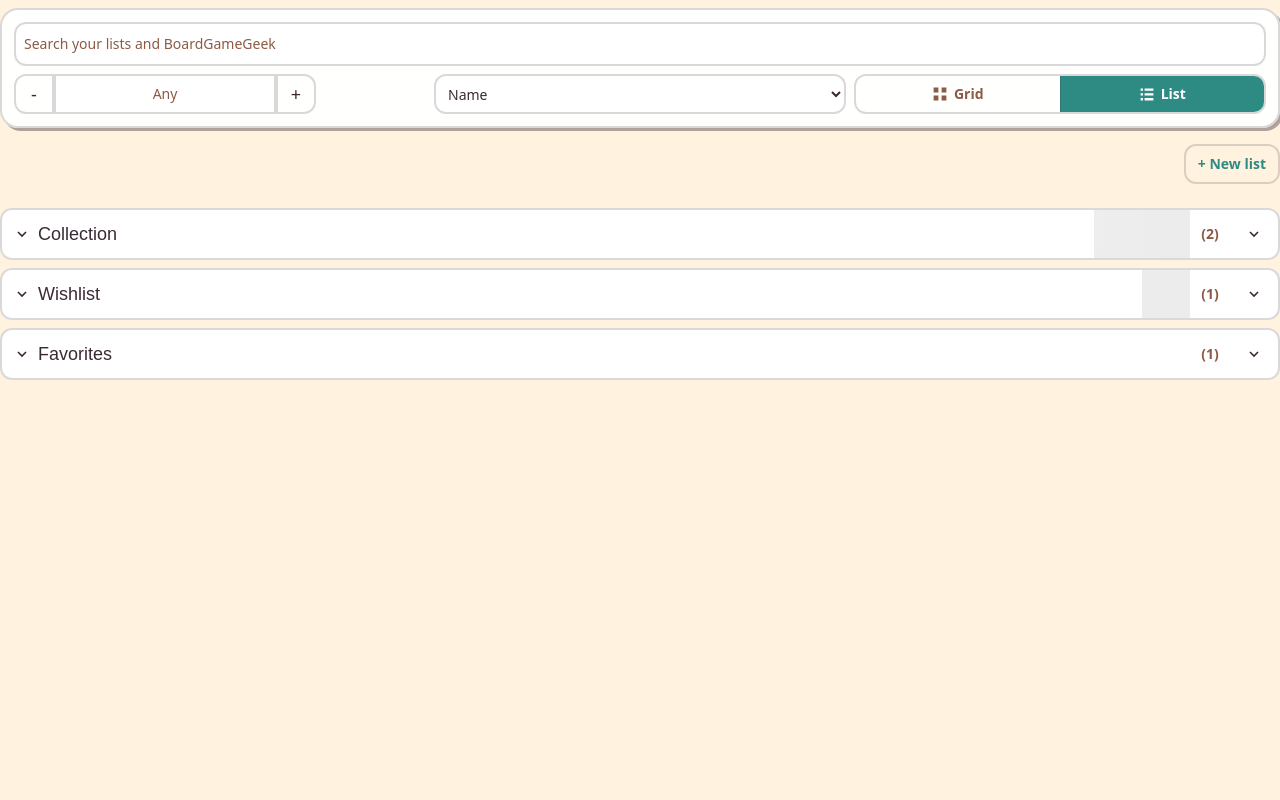
Test case: PersonalCollection lists › uses a prefix match on Enter and respects the player-count filter
The width and height of the screenshot is (1280, 800).
Check: the button with aria-label "Favorites (1)" is shown, box [2,330,1190,378]
Type "azu" into the field labelled "Search your lists and BoardGameGeek" at point(640, 44), box [14,22,1266,66]
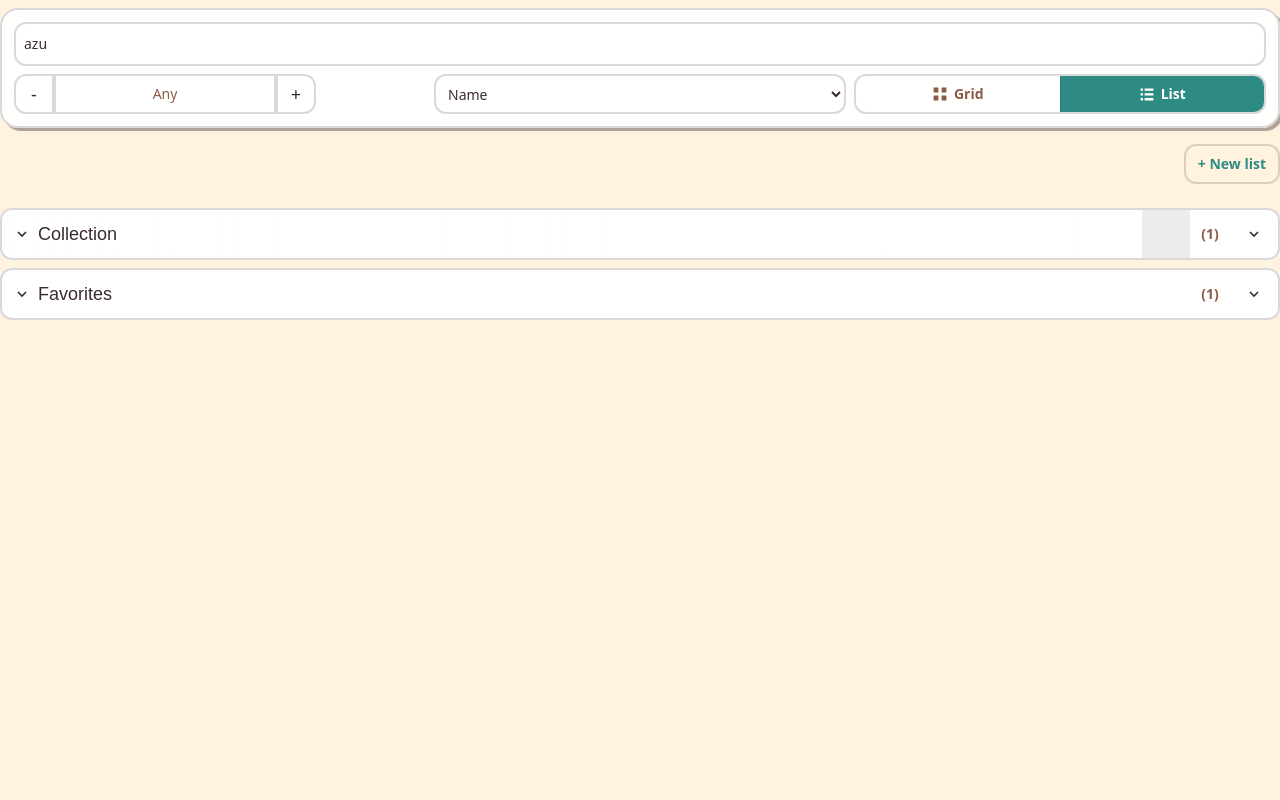
Type "5" into the field named "Player count value" at point(165, 94), box [54,74,276,114]
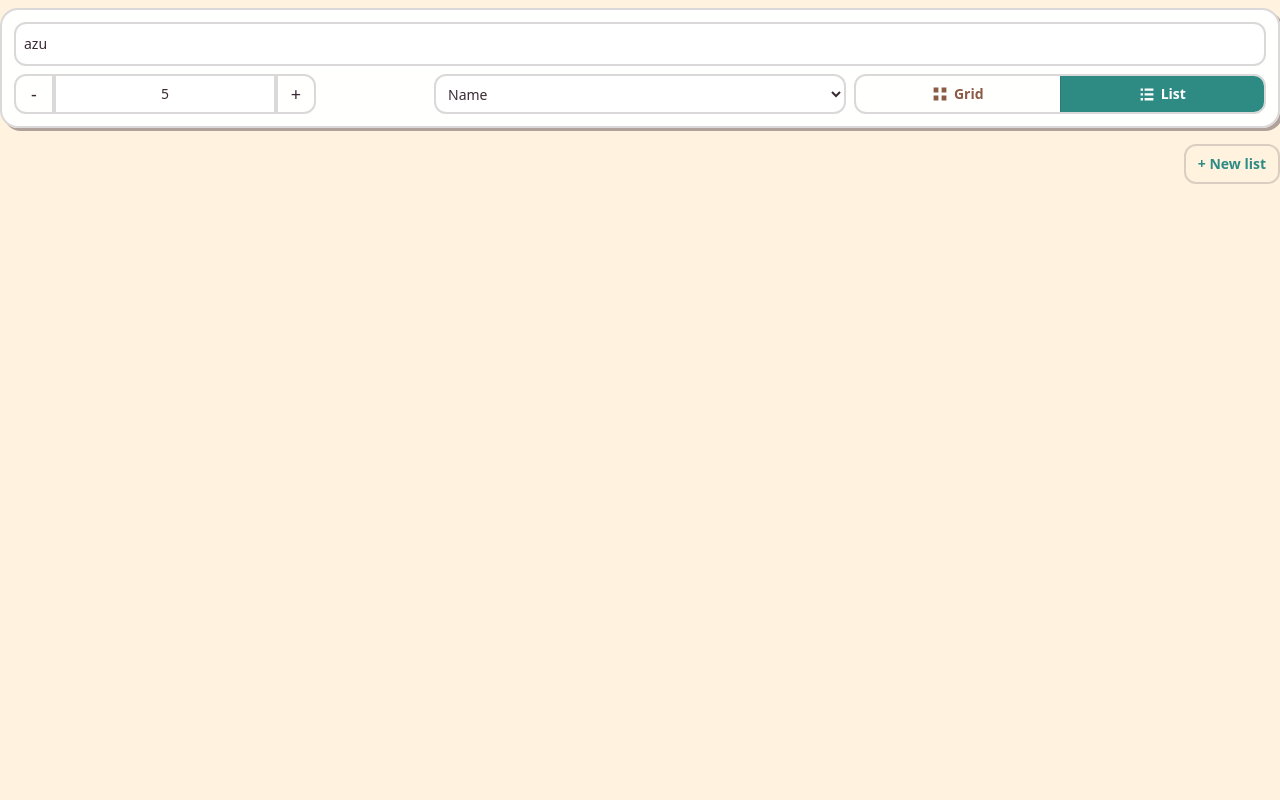
Press Enter in the field named "Search your lists and BoardGameGeek", box [14,22,1266,66]
Replace the text in the field named "Search your lists and BoardGameGeek" with "missing title" at point(640, 44), box [14,22,1266,66]
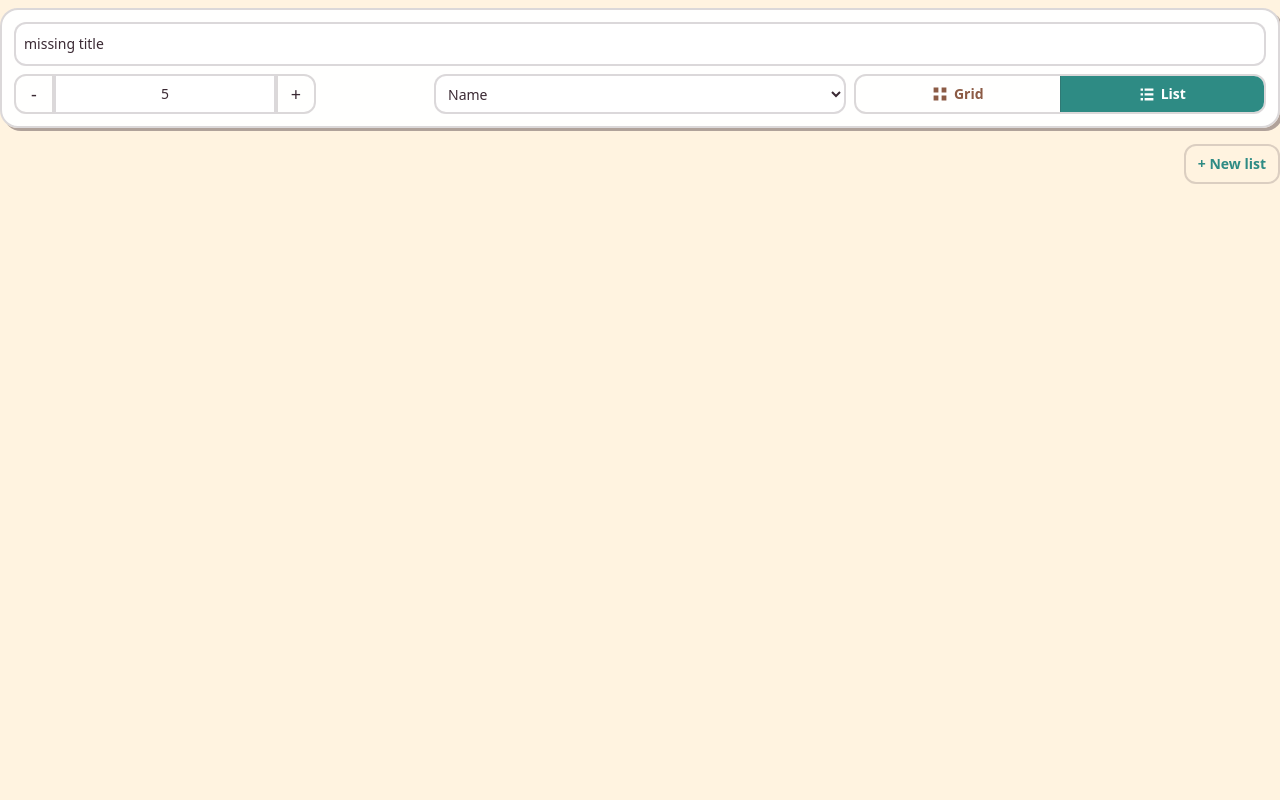
Clear the field named "Player count value" at point(165, 94), box [54,74,276,114]
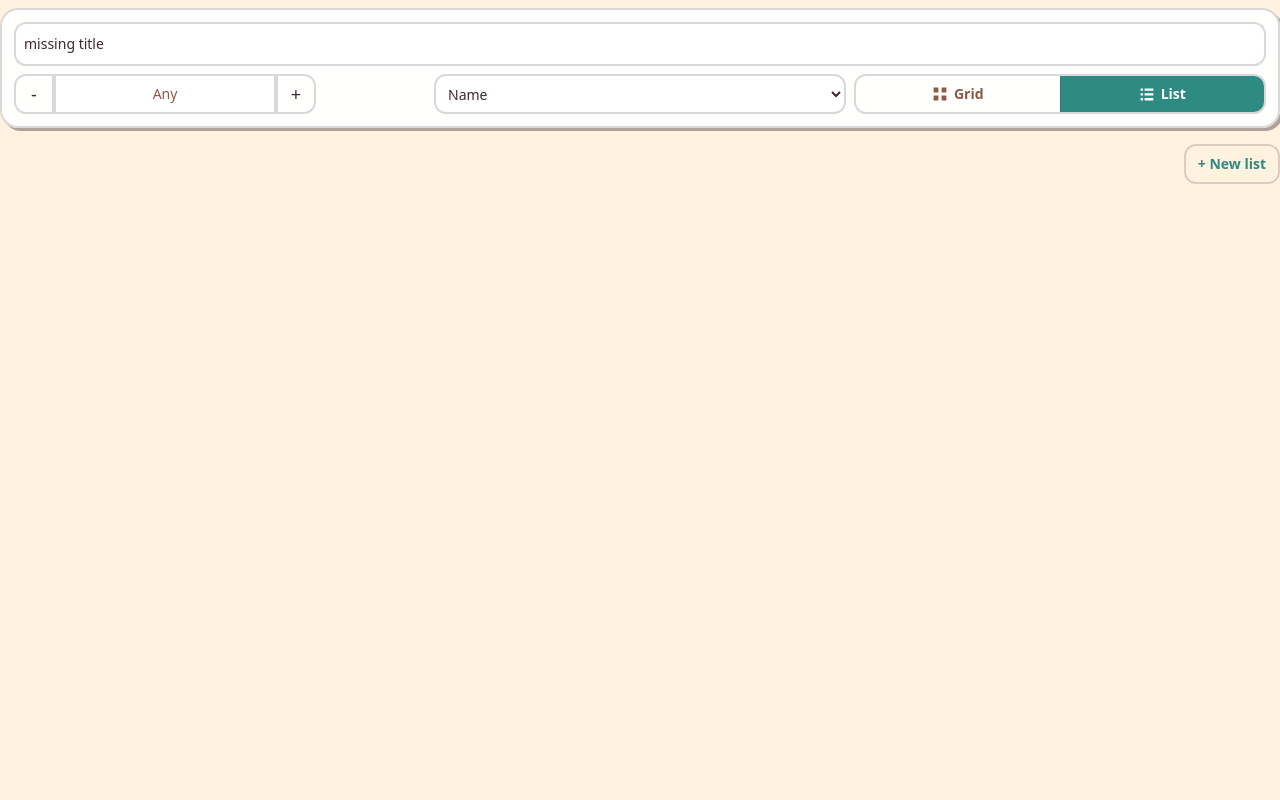
Press Enter in the field named "Search your lists and BoardGameGeek", box [14,22,1266,66]
Replace the text in the field named "Search your lists and BoardGameGeek" with "azu" at point(640, 44), box [14,22,1266,66]
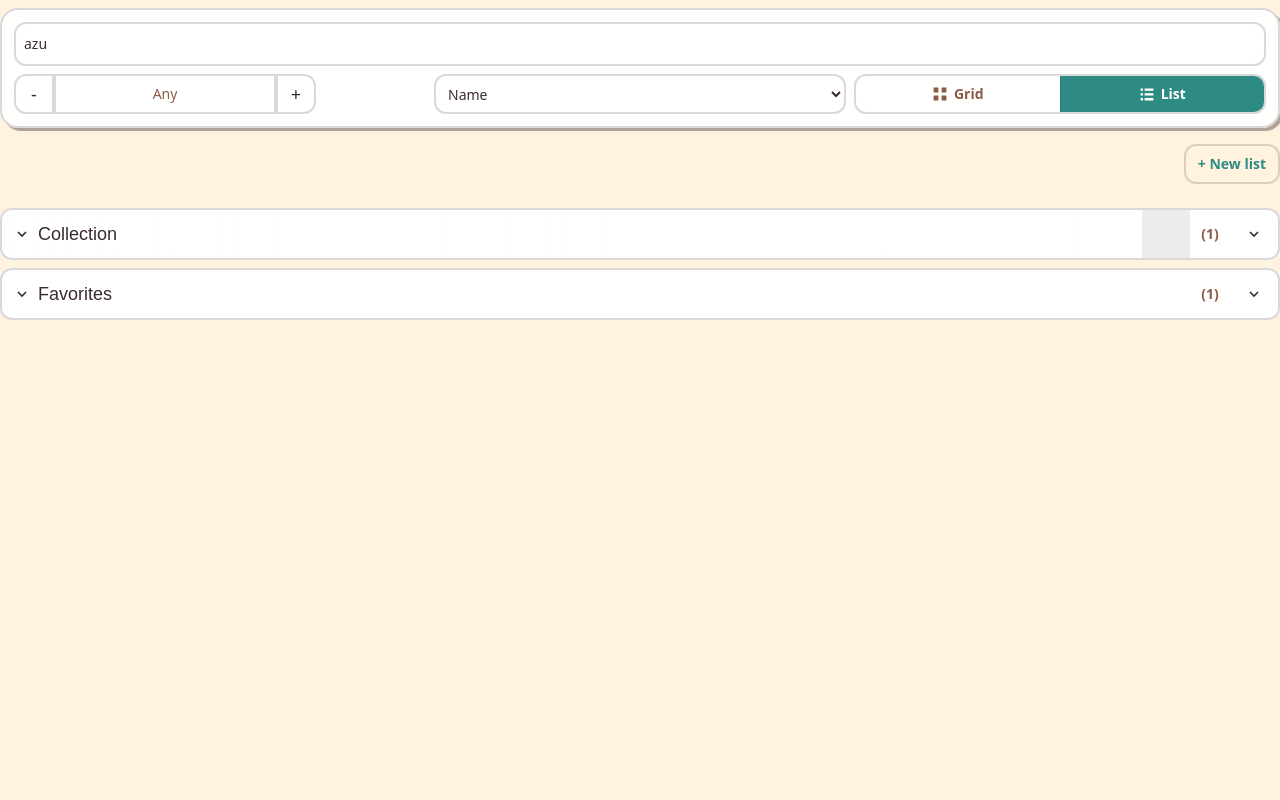
Press Enter in the field named "Search your lists and BoardGameGeek", box [14,22,1266,66]
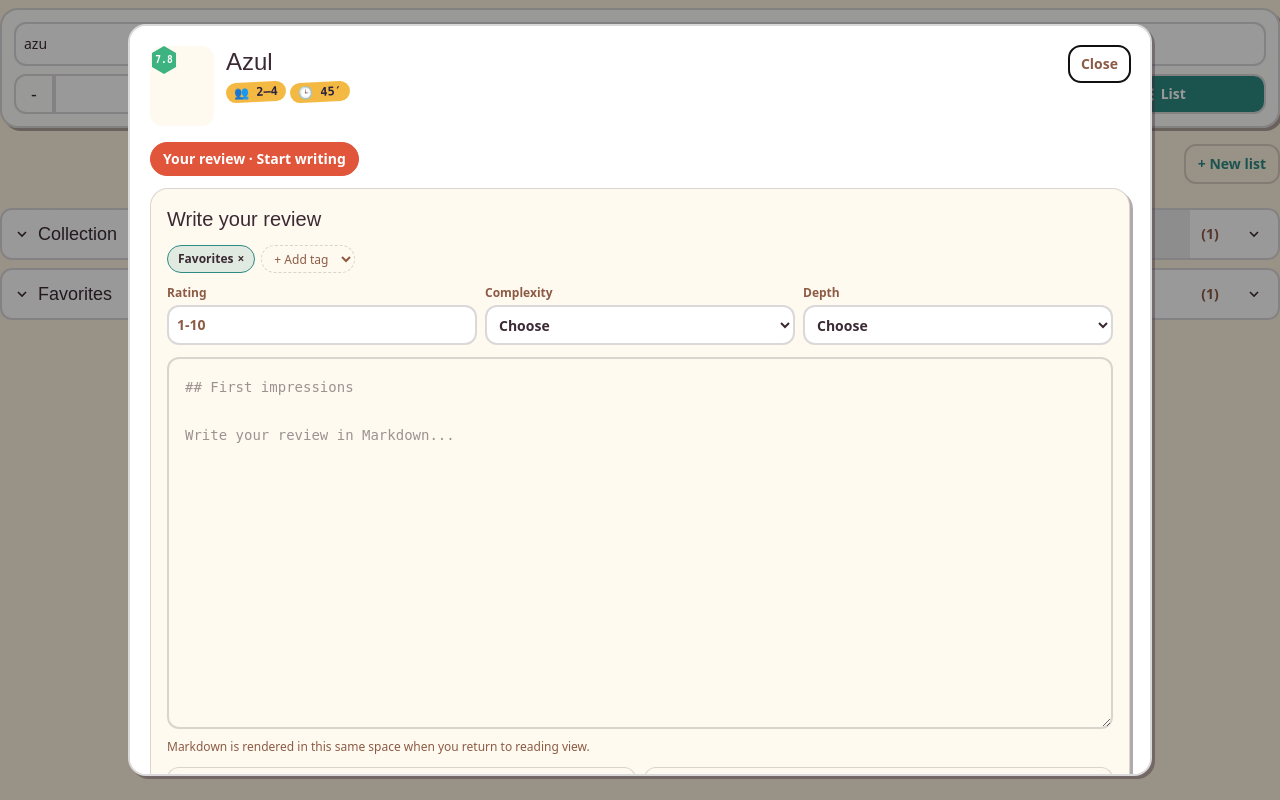
Check: the link "Azul" is shown, box [226,48,273,75]
